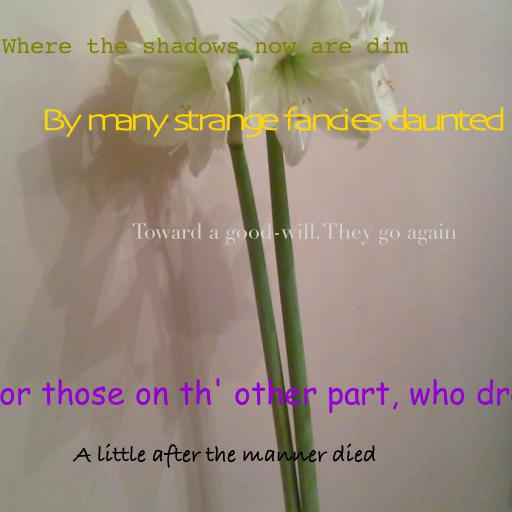Bradley Hand: (73, 443, 377, 468)
Comic Sans MS: (0, 378, 512, 414)
Courier: (2, 36, 408, 54)
Didot: (131, 223, 457, 245)
Skia: (41, 107, 501, 138)
